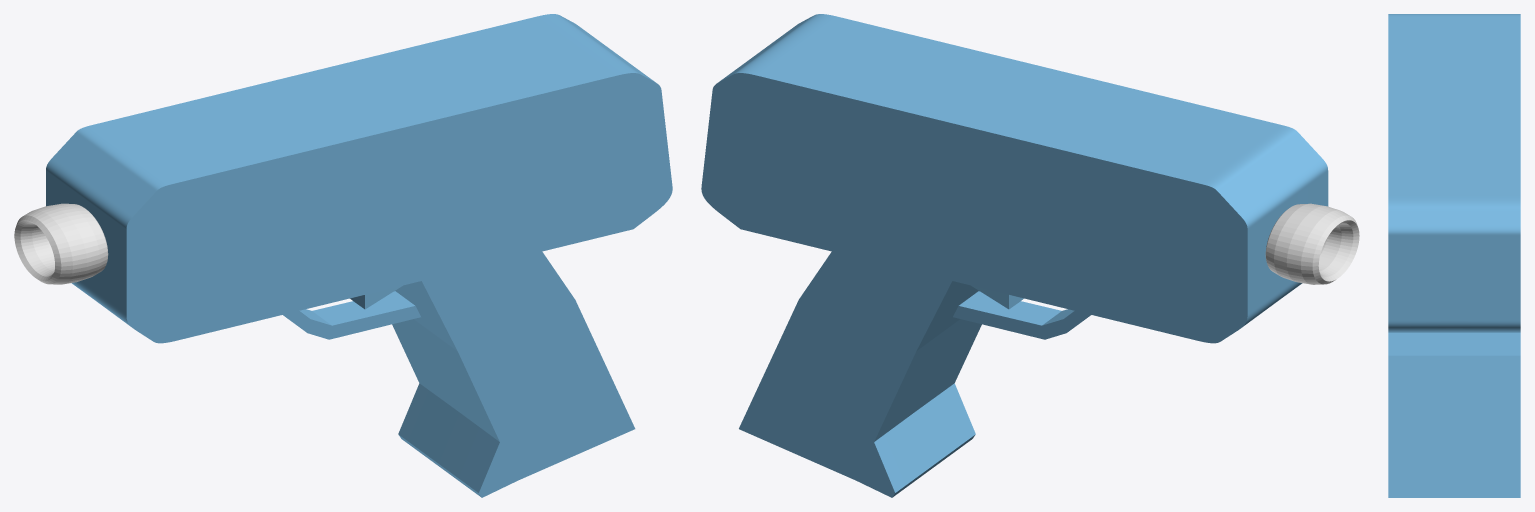
The model's file is IceGun.fbx.
3 renders of one model, left to right at view 1: azimuth 30°, elevation 25°; view 2: azimuth 150°, elevation 25°; view 3: azimuth 270°, elevation 25°, orthographic. The views are drawn at different scales.
Visible parts, largest first — view 1: Cube, Torus; view 2: Cube, Torus; view 3: Cube.
Part boxes in pixels (x1=…): Cube: x1=46, y1=14, x2=672, y2=497; Torus: x1=14, y1=203, x2=108, y2=284; Cube: x1=701, y1=14, x2=1328, y2=497; Torus: x1=1265, y1=203, x2=1359, y2=284; Cube: x1=1388, y1=14, x2=1520, y2=497.
Bounding box in the file's own units: 451 × 281 × 105.
